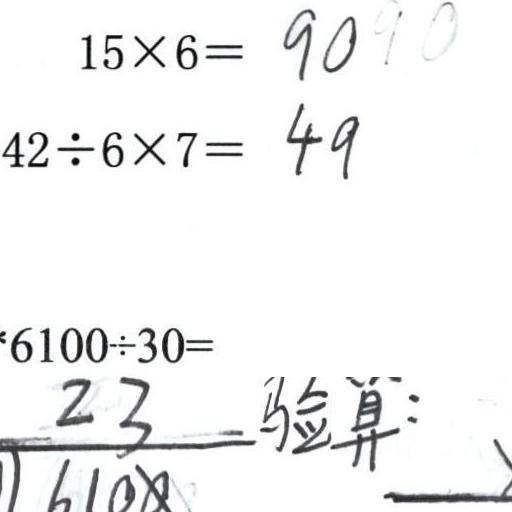ans: (281, 97, 360, 181), (278, 2, 357, 79)
